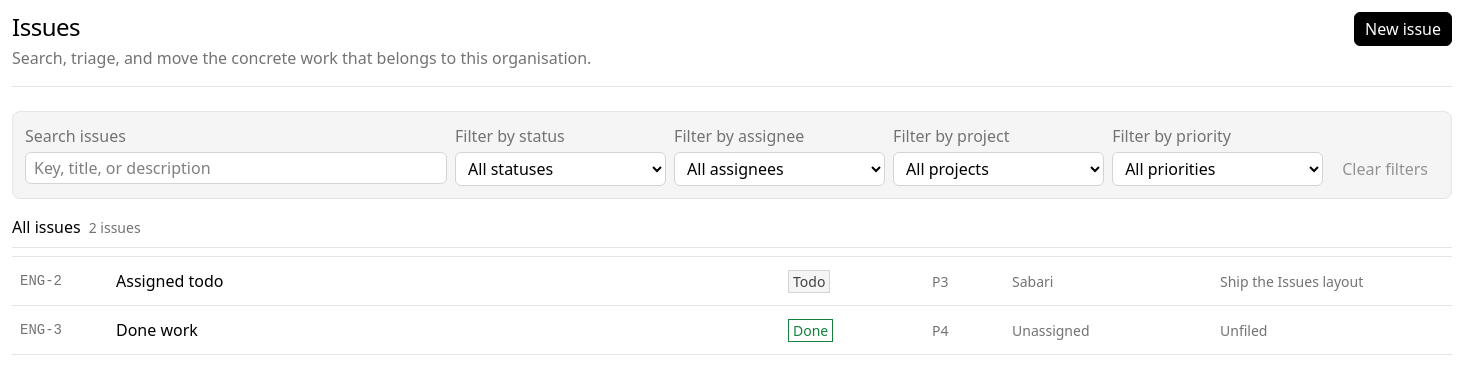
IssuesPage › filters by search, status, assignee, and priority, then clears them
The image size is (1464, 372).
Check: the text "Assigned todo" is shown, box left=116, top=270, right=223, bottom=292
In the search field with test id "issues-search": point(236, 168) left=25, top=152, right=447, bottom=184, type "assigned"
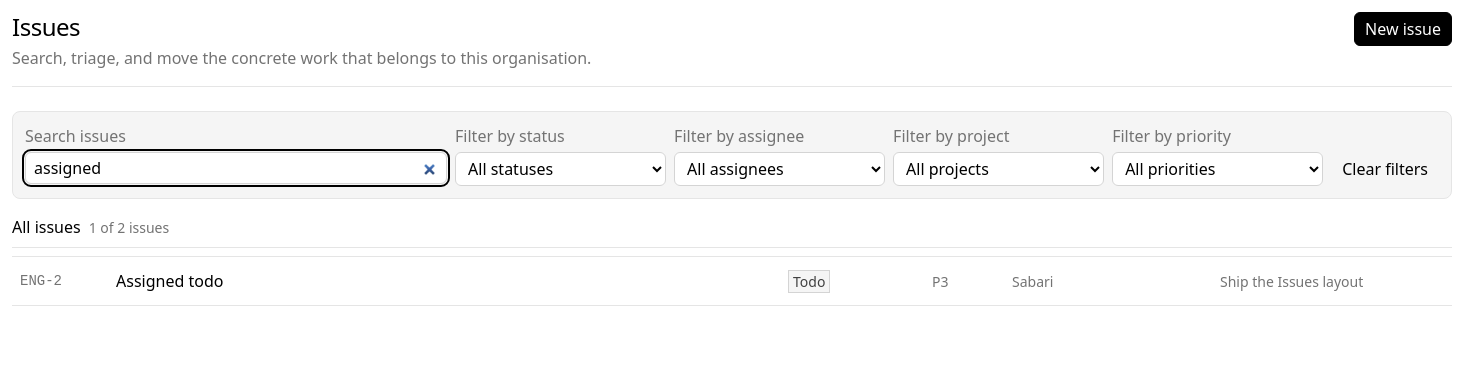
Select "Todo" in the dropdown with test id "issues-status-filter": point(560, 169) left=455, top=152, right=666, bottom=186
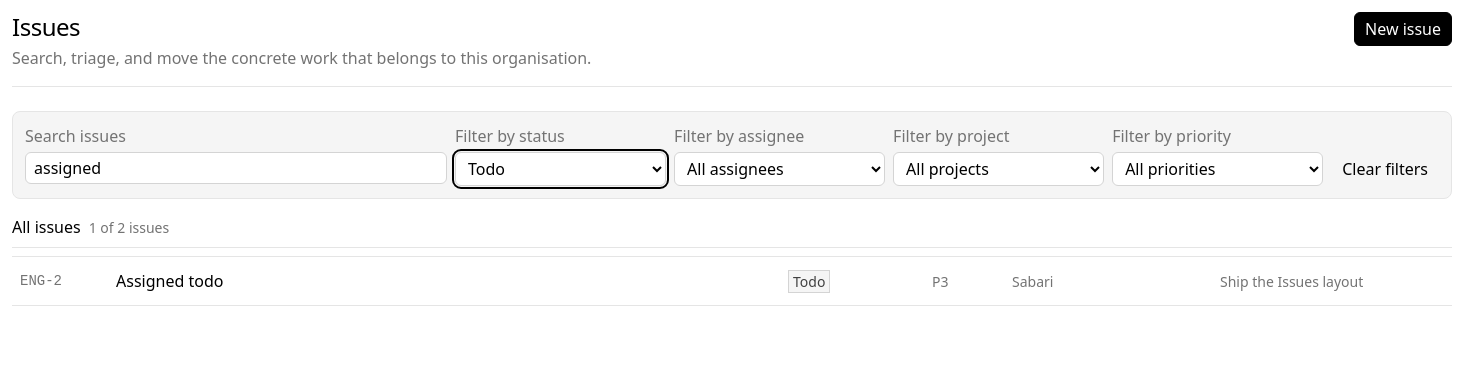
Select "Sabari" in the dropdown with test id "issues-assignee-filter": point(780, 169) left=674, top=152, right=885, bottom=186
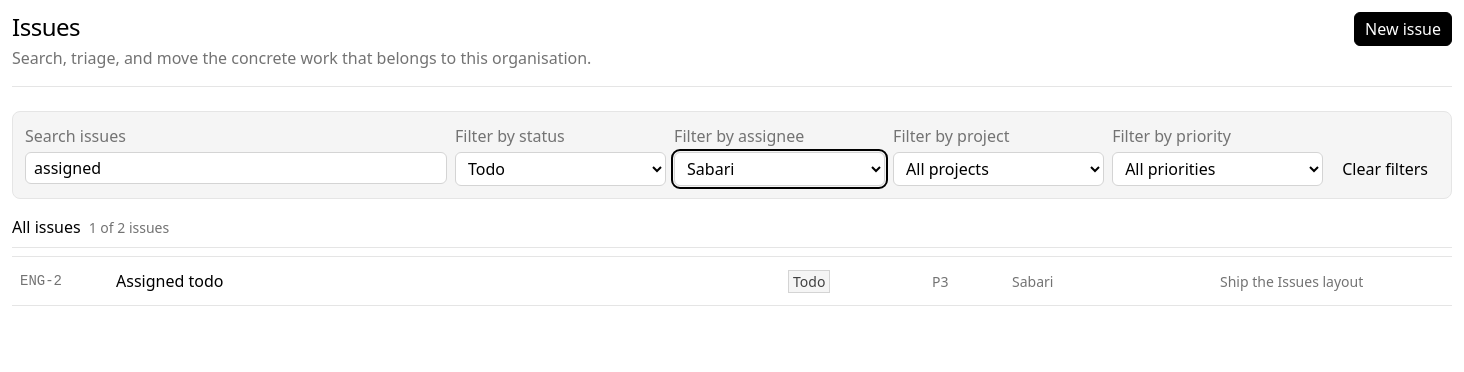
Select "P3" in the dropdown with test id "issues-priority-filter": point(1218, 169) left=1112, top=152, right=1323, bottom=186
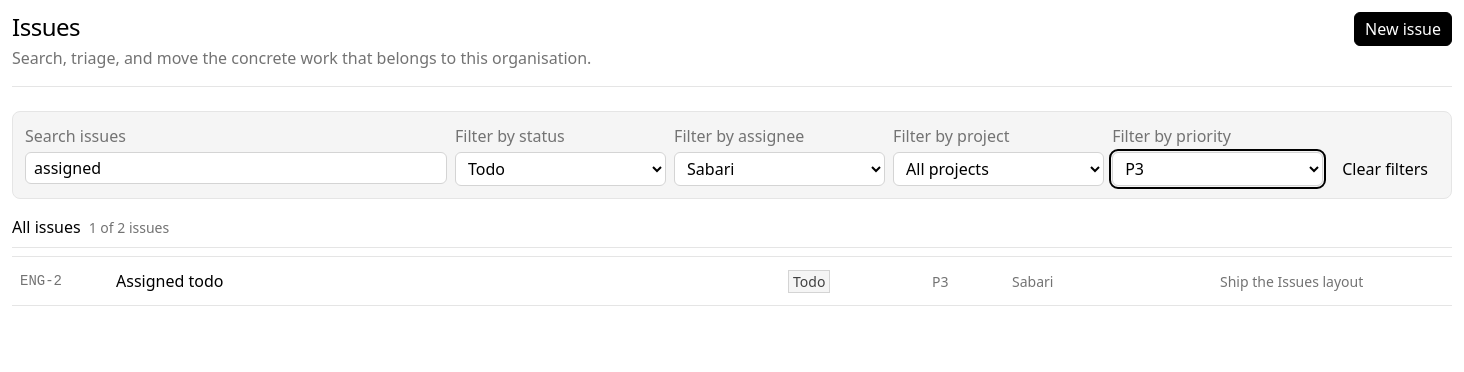
Check: the text "Assigned todo" is shown, box left=116, top=270, right=223, bottom=292
Check: the text with test id "issues-count" reads "1 of 2 issues", box left=89, top=218, right=169, bottom=237
Click the button with test id "issues-clear-filters": point(1385, 169) left=1331, top=152, right=1439, bottom=186
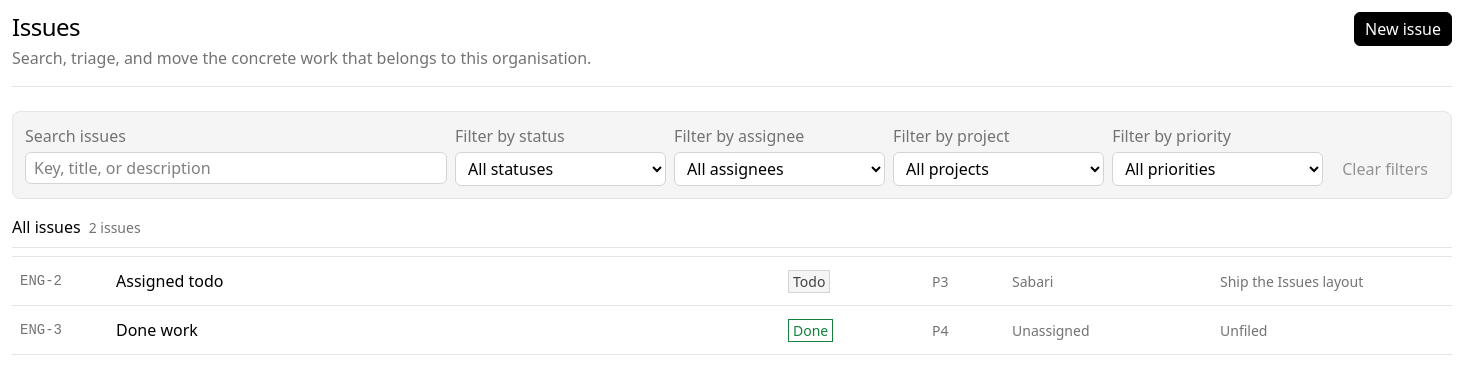
Check: the text "Done work" is shown, box left=116, top=319, right=198, bottom=341
